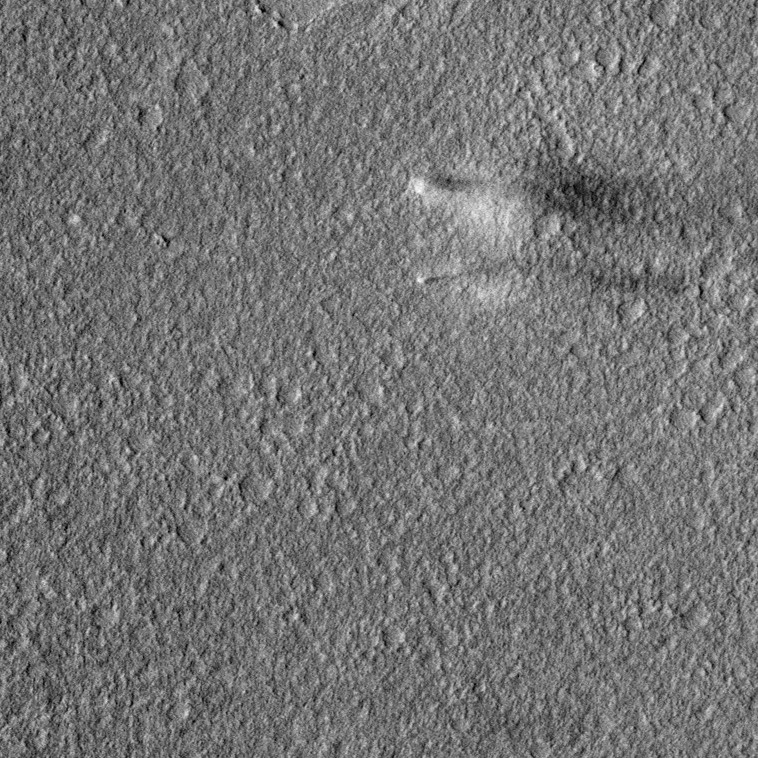dust_devil: (405, 166, 661, 237), (415, 251, 683, 302)
